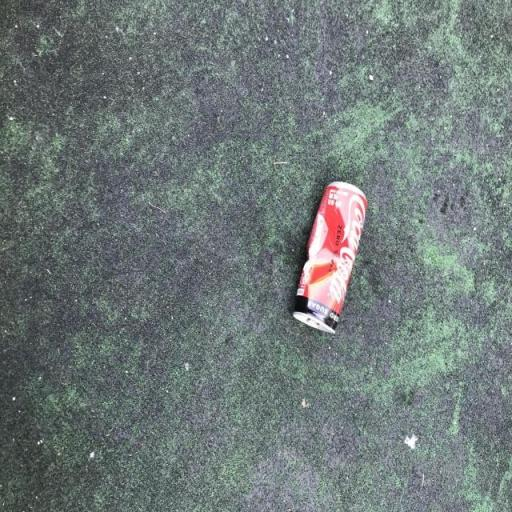metal: (283, 172, 374, 349)
